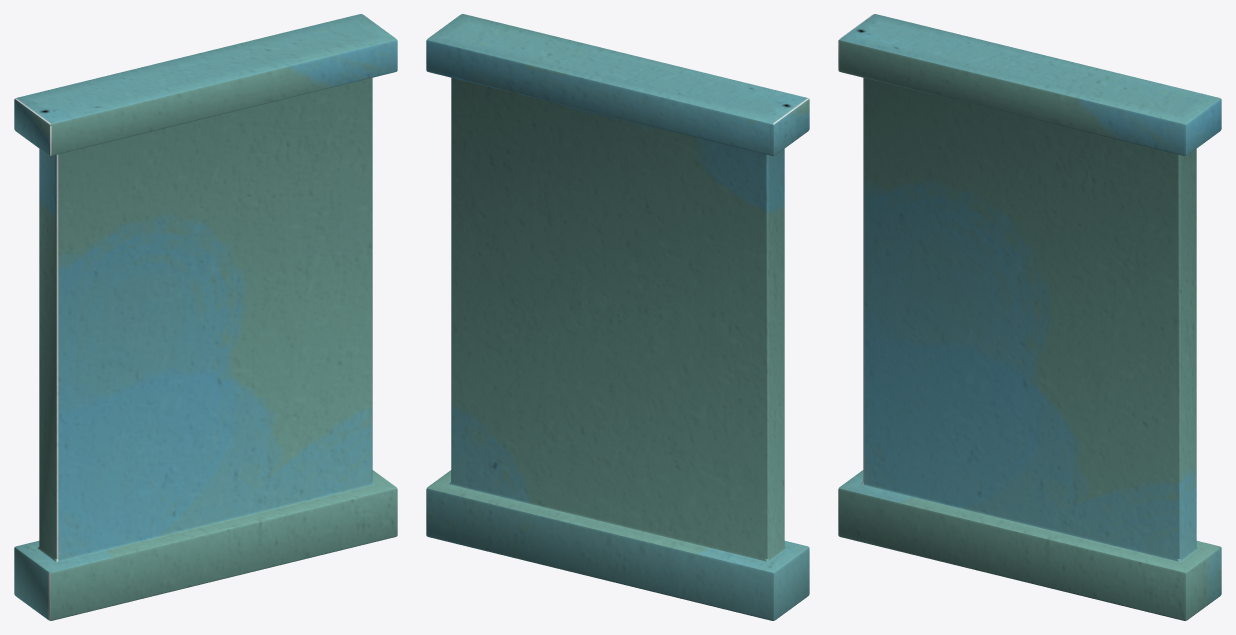
File: TOMB_WALL_2.obj
3 views of the same model, side by side, from view 1: azimuth 30°, elevation 25°; view 2: azimuth 150°, elevation 25°; view 3: azimuth 330°, elevation 25° (orthographic).
Visible parts, largest first — view 1: TOMB_WALL_2.002; view 2: TOMB_WALL_2.002; view 3: TOMB_WALL_2.002.
Boxes of the visible parts, x1,y1,x2,y2 form: TOMB_WALL_2.002: (14,14,397,620); TOMB_WALL_2.002: (426,14,809,620); TOMB_WALL_2.002: (838,14,1221,620).
Bounding box in the file's own units: 2.2 × 3 × 0.4.
